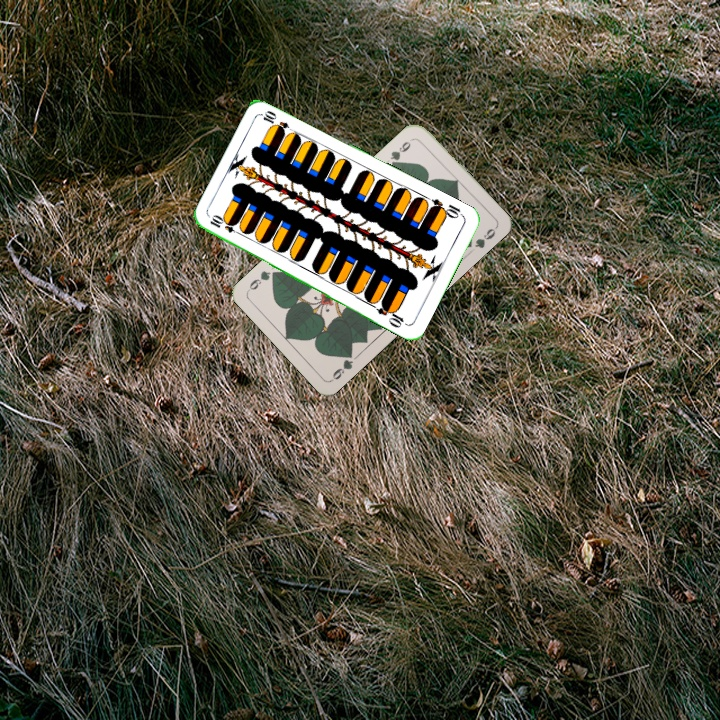E10: (426, 195, 466, 221), (206, 212, 245, 238)
G9: (386, 135, 417, 169), (328, 347, 356, 383)
